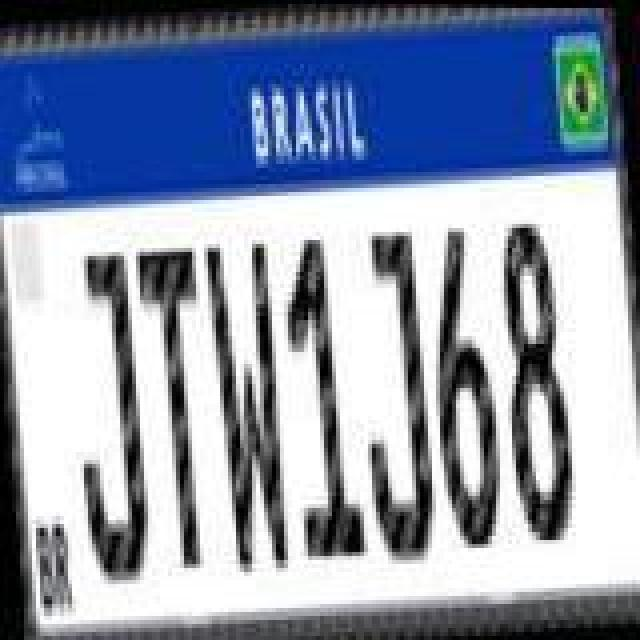1: (278, 230, 370, 562)
6: (418, 218, 510, 554)
8: (490, 212, 582, 544)
J: (66, 250, 158, 586), (346, 228, 438, 564)
T: (136, 244, 224, 576)
W: (200, 236, 296, 576)
